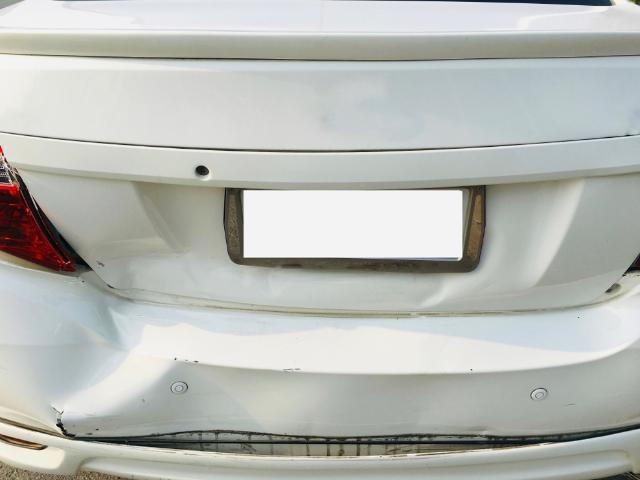Bumper: (11, 306, 640, 480)
